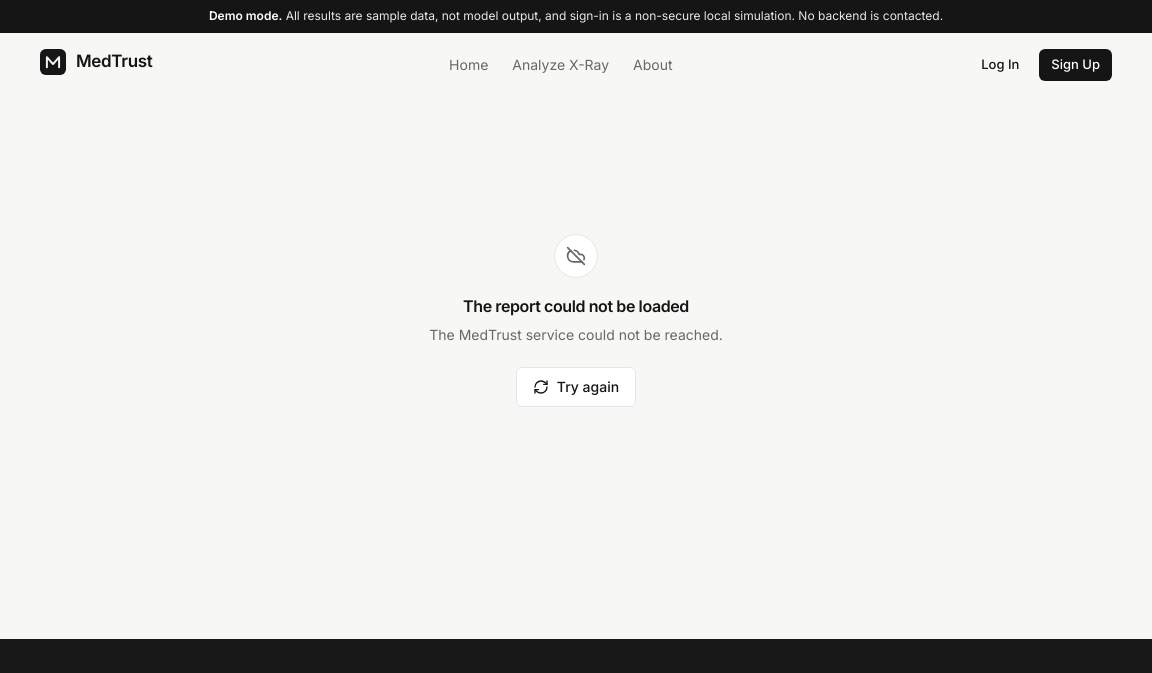
Scenario: report page › offers a retry when the report cannot be loaded
Expected: the heading "The report could not be loaded" is shown, left=463, top=294, right=689, bottom=318
Expected: the text "The MedTrust service could not be reached." is shown, left=429, top=324, right=723, bottom=347
Click the button "Try again" at (576, 387), box left=516, top=367, right=636, bottom=407
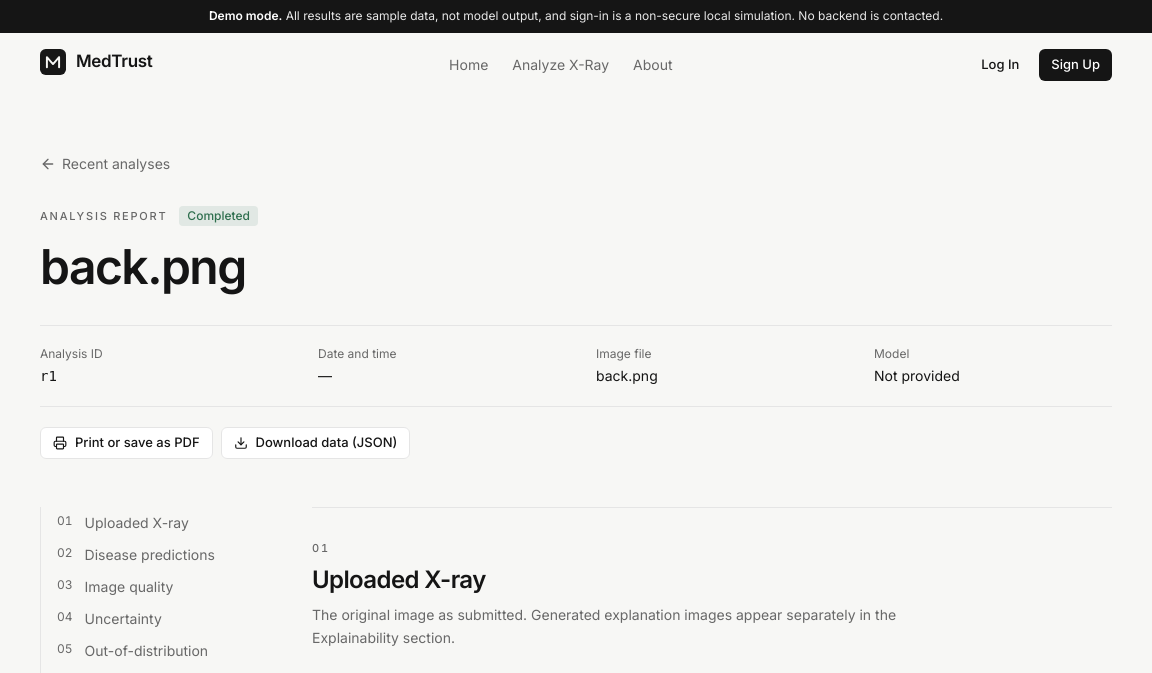
Expected: the heading "back.png" is shown, left=40, top=237, right=246, bottom=296
